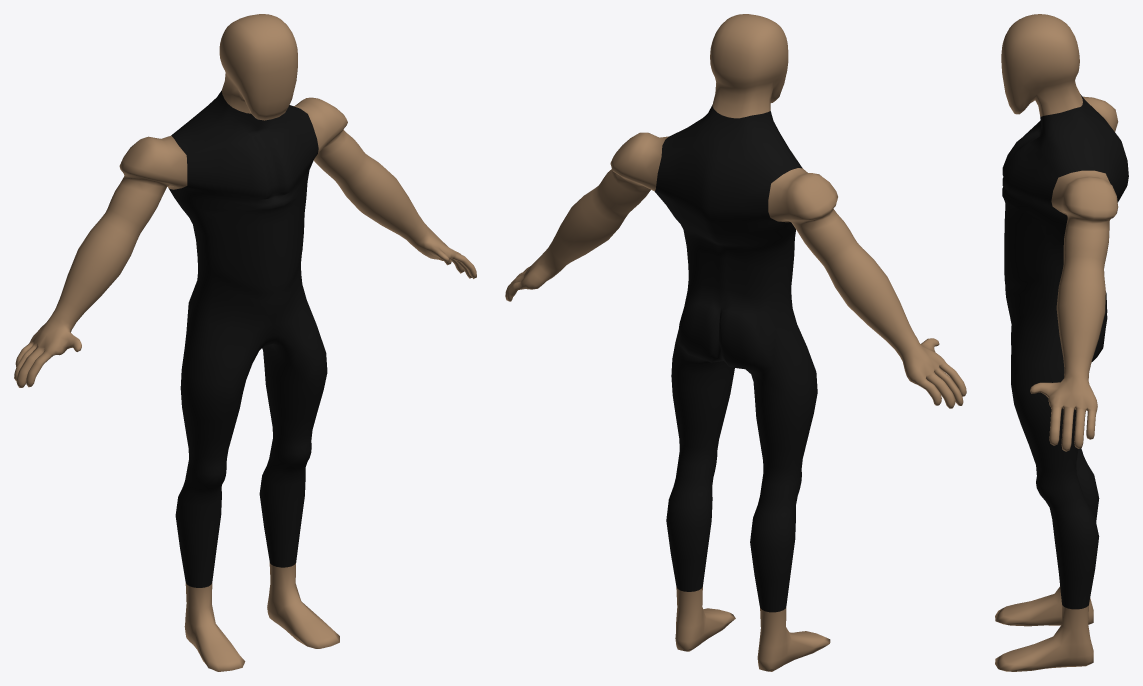
The model's file is HUMAN.obj.
The picture shows the model from 3 angles, left to right: view 1: azimuth 30°, elevation 25°; view 2: azimuth 150°, elevation 25°; view 3: azimuth 270°, elevation 25°; orthographic projection.
Parts seen in each view (by area): view 1: Cube.001; view 2: Cube.001; view 3: Cube.001.
Boxes of the visible parts, x1,y1,x2,y2 form: Cube.001: [14, 14, 476, 671]; Cube.001: [505, 14, 966, 671]; Cube.001: [995, 14, 1128, 671].
Bounding box in the file's own units: 4.21 × 5.54 × 1.07.
